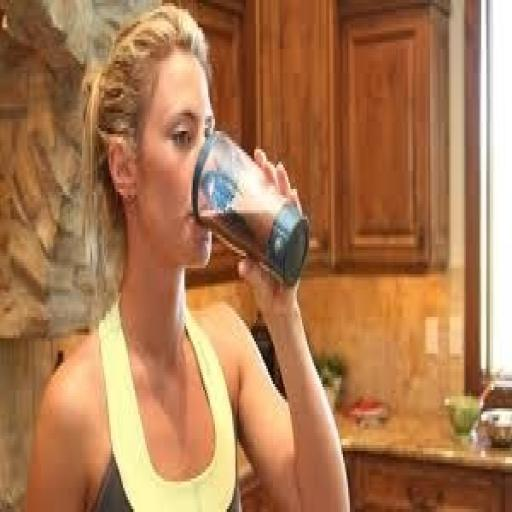drinking: (189, 128, 309, 286)
